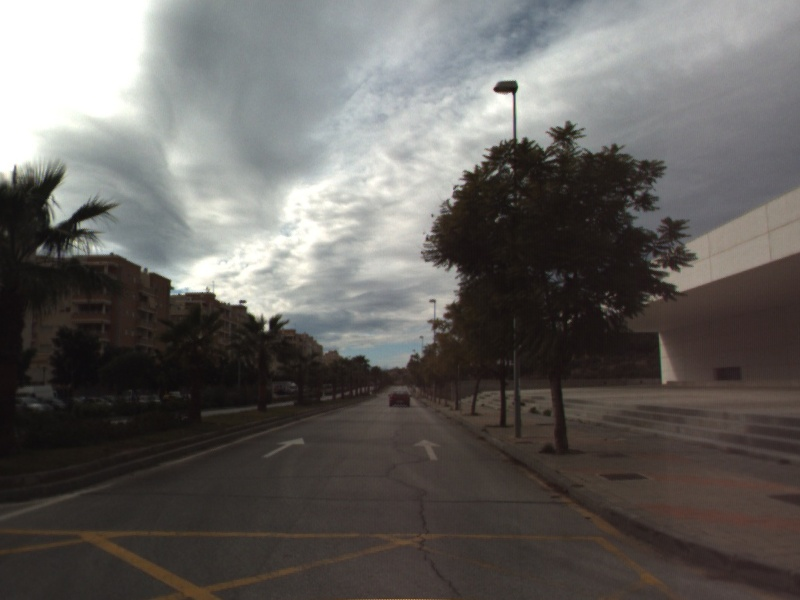STRAIGHT: (260, 434, 307, 460), (411, 437, 443, 462)
